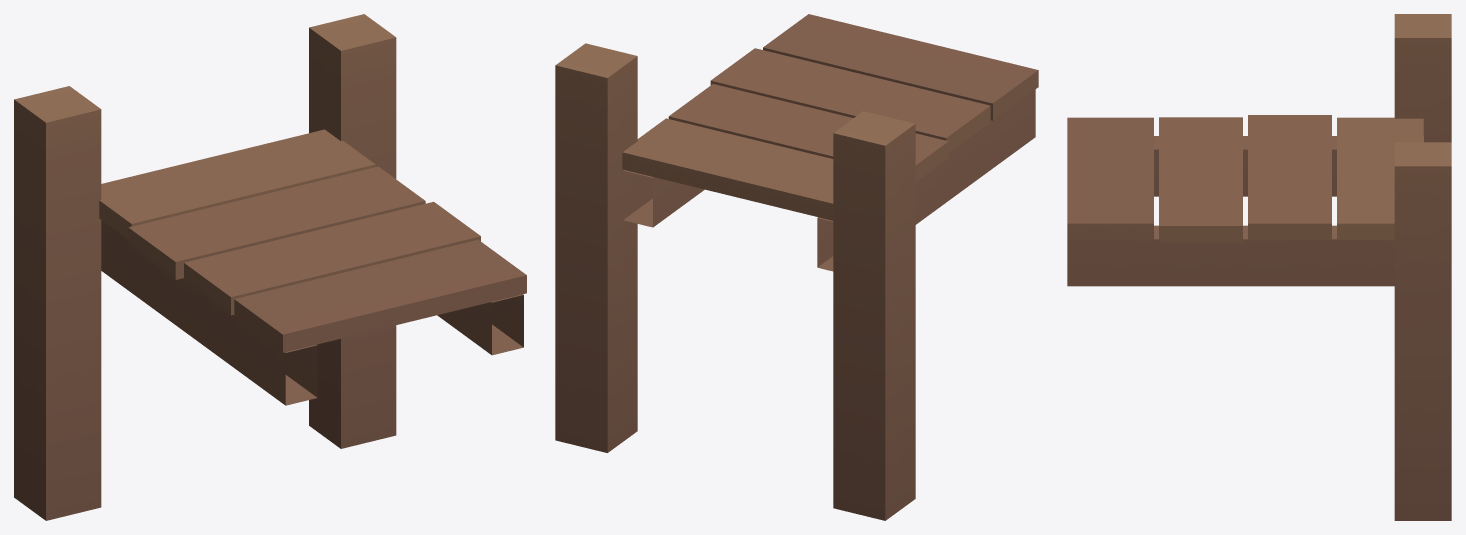
File: TD_bridge2.fbx
The picture shows the model from 3 angles, left to right: view 1: azimuth 30°, elevation 25°; view 2: azimuth 150°, elevation 25°; view 3: azimuth 270°, elevation 25°; orthographic projection. The views are drawn at different scales.
Visible parts, largest first — view 1: bridge2; view 2: bridge2; view 3: bridge2.
Boxes of the visible parts, box(x1,y1,x2,y2) form: bridge2: box(14, 14, 526, 520); bridge2: box(555, 14, 1038, 520); bridge2: box(1067, 14, 1451, 520).
Size of the model in its own units: 202 by 220 by 216.
